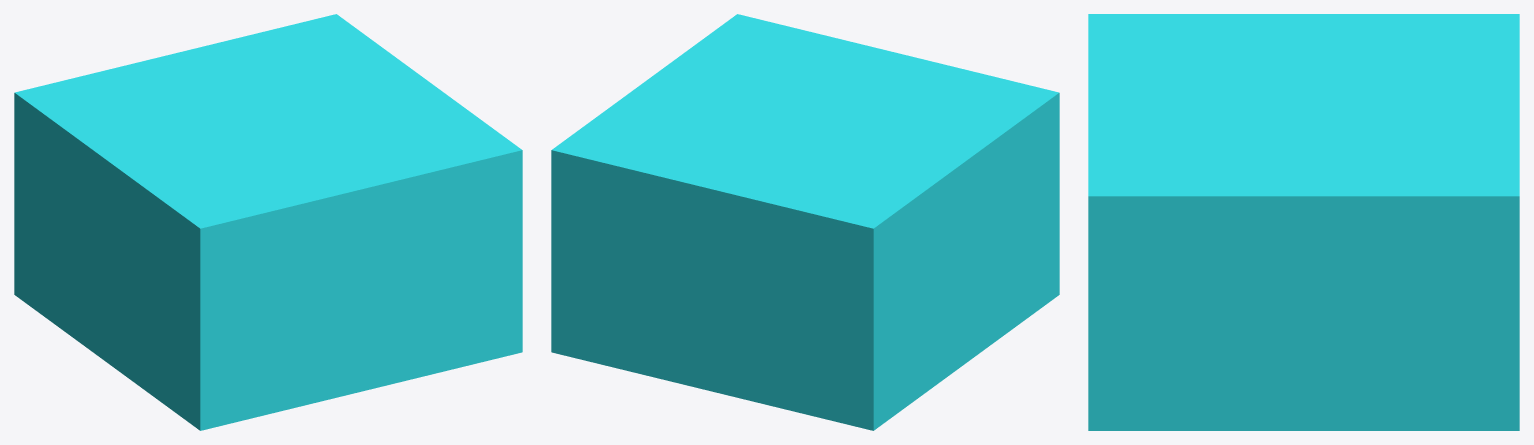
File: WaterBlockFilled_6.fbx
The picture shows the model from 3 angles, left to right: view 1: azimuth 30°, elevation 25°; view 2: azimuth 150°, elevation 25°; view 3: azimuth 270°, elevation 25°; orthographic projection. The views are drawn at different scales.
Visible parts, largest first — view 1: WaterBlockFilled_6; view 2: WaterBlockFilled_6; view 3: WaterBlockFilled_6.
Part boxes in pixels (<box>): WaterBlockFilled_6: <box>14,14,522,430</box>; WaterBlockFilled_6: <box>551,14,1059,430</box>; WaterBlockFilled_6: <box>1088,14,1519,430</box>.
Bounding box in the file's own units: 1 × 0.6 × 1.
1 material, 1 textured.
